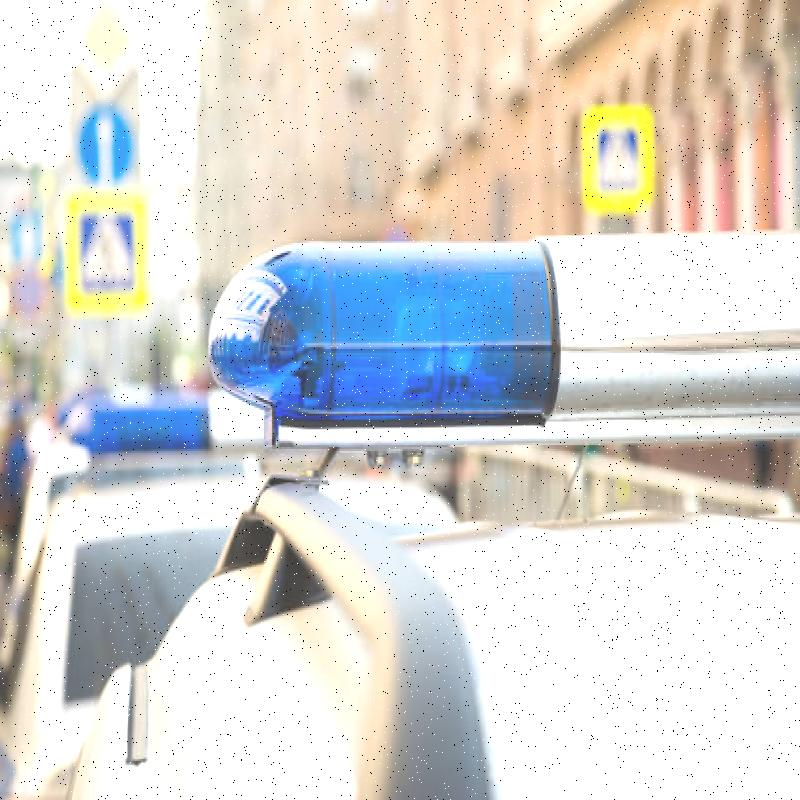AmbulanceSiren: (237, 160, 800, 443)
